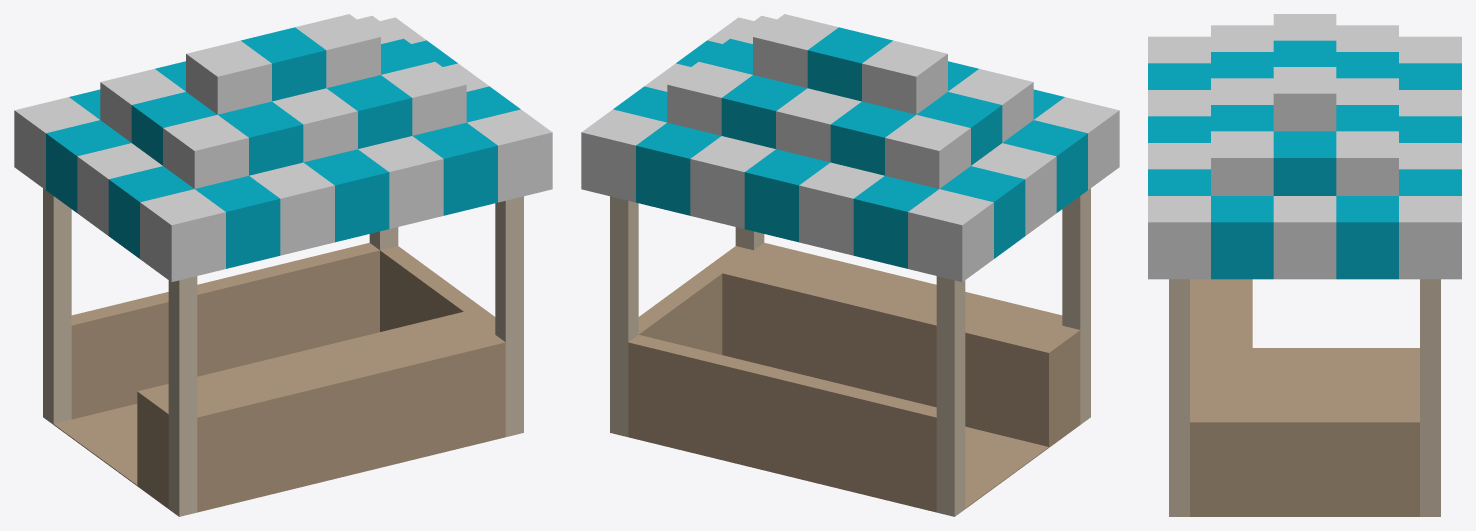
File: marketstall_2.glb
3 views of the same model, side by side, from view 1: azimuth 30°, elevation 25°; view 2: azimuth 150°, elevation 25°; view 3: azimuth 270°, elevation 25° (orthographic).
Visible parts, largest first — view 1: Mesh_Mesh_head_geo.001_lambert2SG.001; view 2: Mesh_Mesh_head_geo.001_lambert2SG.001; view 3: Mesh_Mesh_head_geo.001_lambert2SG.001.
Part boxes in pixels (x1,y1,x2,y2): Mesh_Mesh_head_geo.001_lambert2SG.001: [14, 14, 552, 516]; Mesh_Mesh_head_geo.001_lambert2SG.001: [581, 14, 1119, 516]; Mesh_Mesh_head_geo.001_lambert2SG.001: [1148, 14, 1461, 516].
Bounding box in the file's own units: 21 × 20 × 15.
